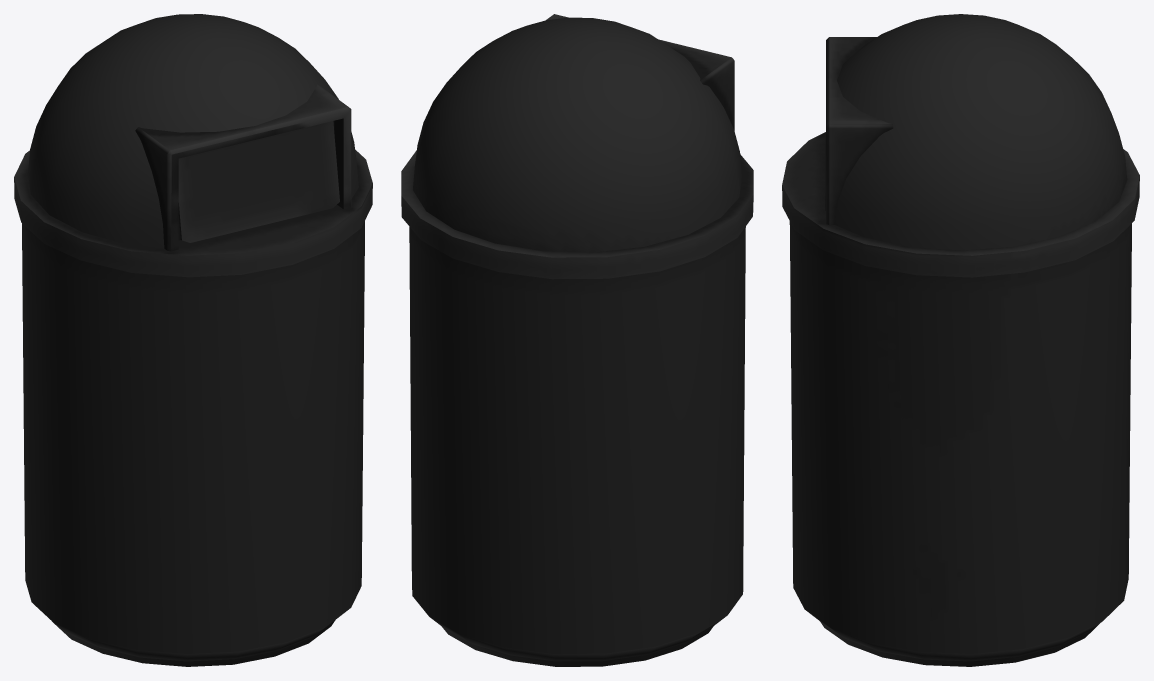
File: trashcan.fbx
3 views of the same model, side by side, from view 1: azimuth 30°, elevation 25°; view 2: azimuth 150°, elevation 25°; view 3: azimuth 270°, elevation 25° (orthographic).
Visible parts, largest first — view 1: Trashcan1; view 2: Trashcan1; view 3: Trashcan1.
Part boxes in pixels (x1,y1,x2,y2): Trashcan1: (14,14,372,666); Trashcan1: (401,14,753,666); Trashcan1: (782,14,1139,666).
Bounding box in the file's own units: 57.05 × 101 × 56.98.
Materials: 1 (1 with a texture image).
